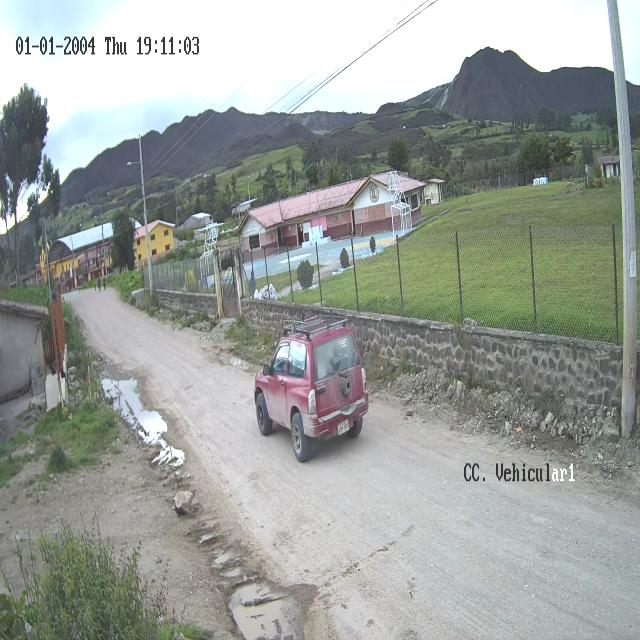SUV: (254, 324, 370, 464)
